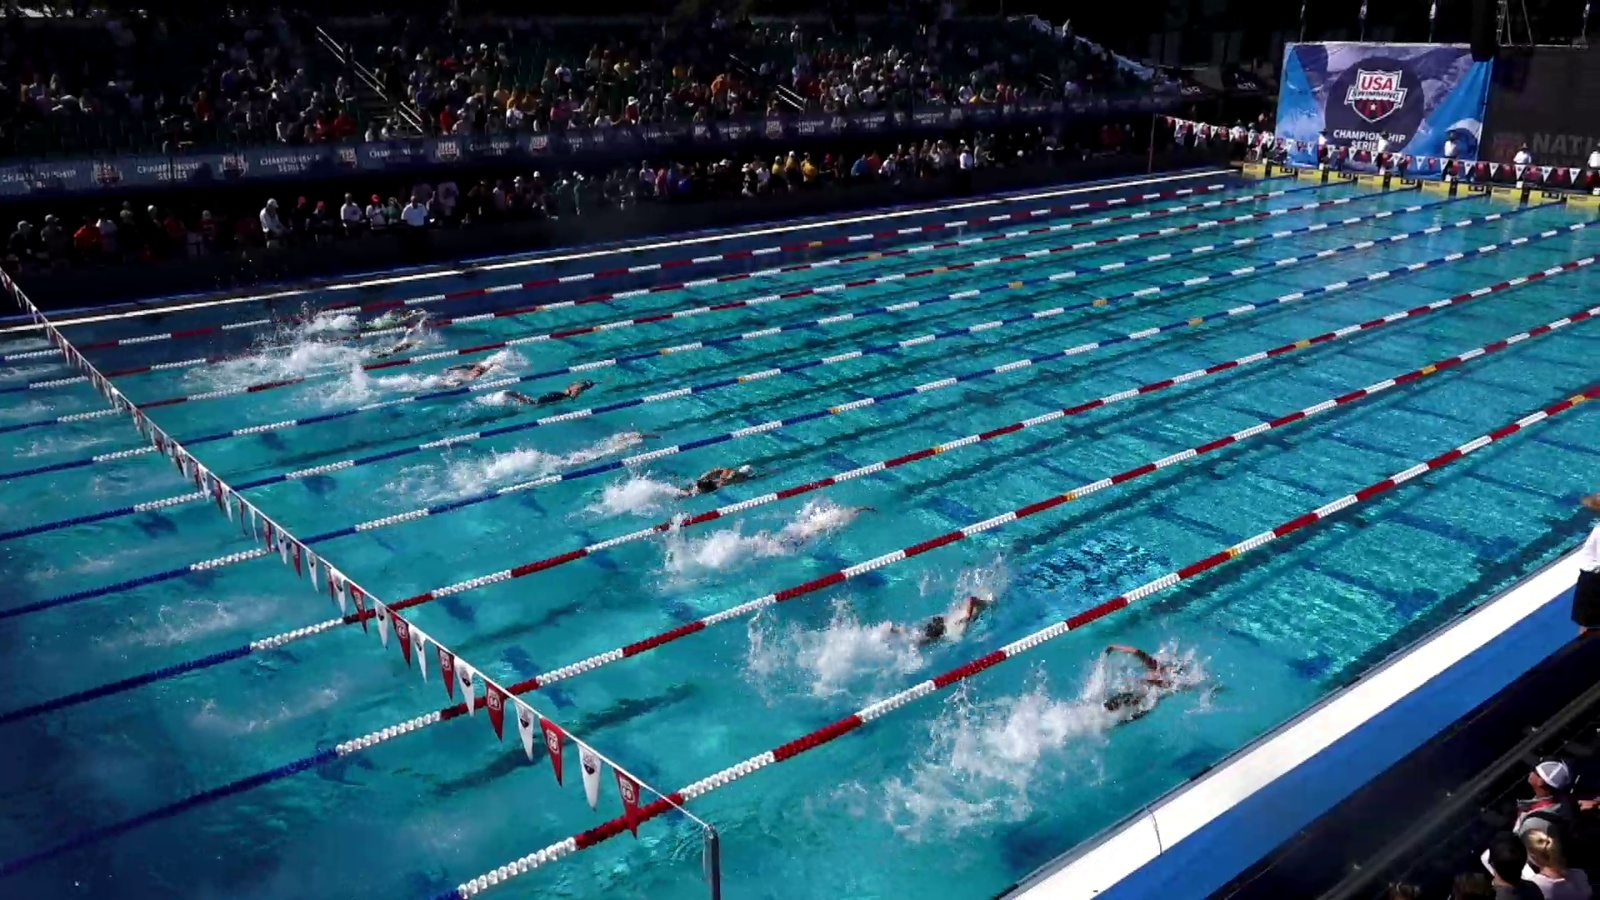swimmerw: (1067, 647, 1192, 752), (869, 589, 1003, 658), (758, 501, 876, 563), (545, 425, 666, 474), (665, 458, 766, 498), (497, 378, 601, 415), (414, 355, 509, 396), (351, 333, 426, 362), (349, 308, 434, 331)
